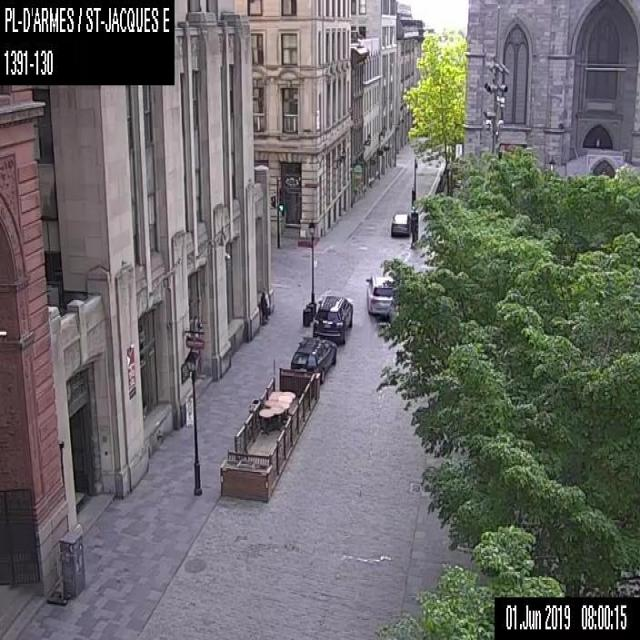pedestrian: (259, 291, 267, 324)
vehicle: (289, 335, 337, 384), (312, 294, 352, 344), (365, 274, 393, 313), (389, 211, 410, 236)
